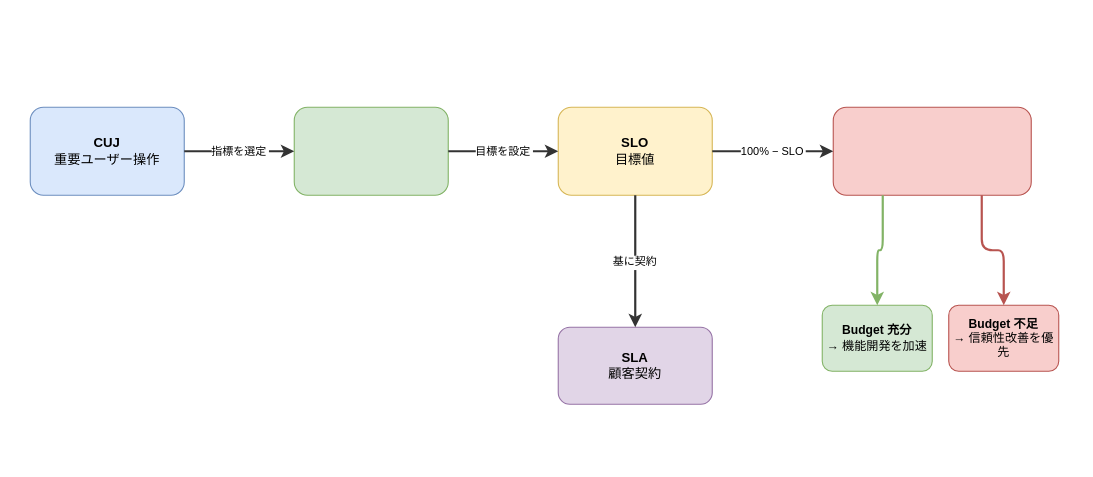
Some shapes in this 1093 by 477 pixel diagram are drawn without their labels. The shapes that lost their labels are listed below. From the top down, each one's box as (x1, y1, x2, y2) in pixels, then its label:
(293, 106, 448, 195): SLI 計測指標
(832, 106, 1031, 195): Error Budget 障害許容量
